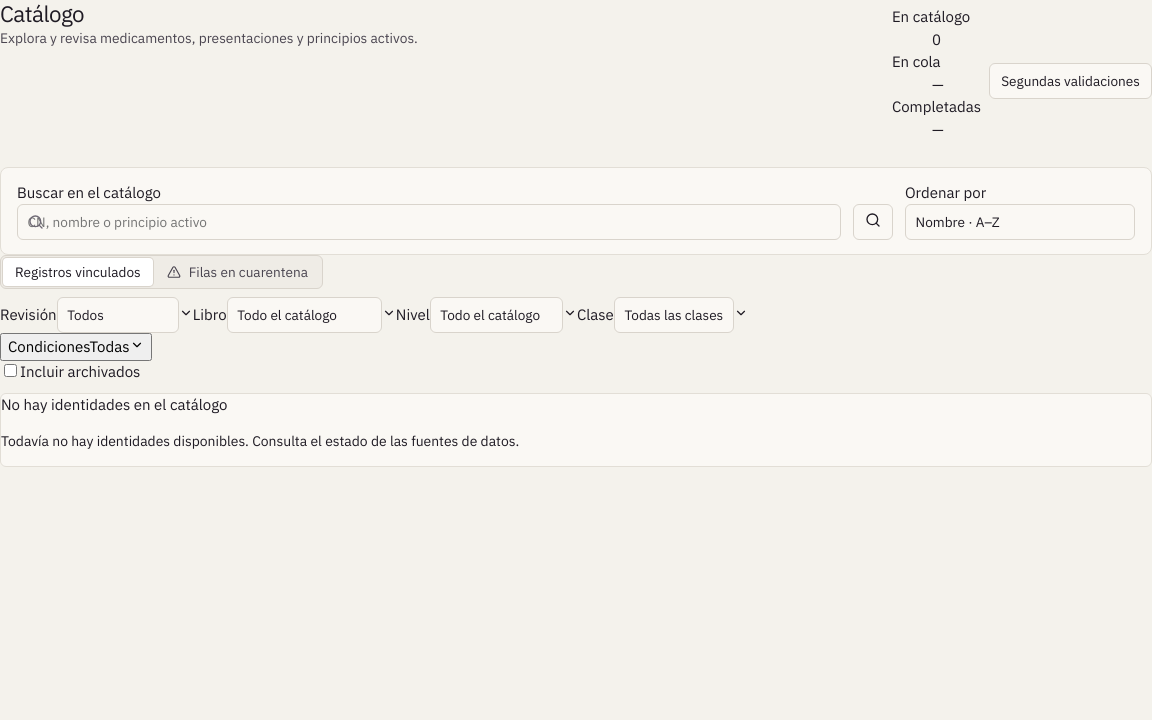
abre segundas validaciones sobre el catálogo sin subpáginas
Expected: the text "No hay identidades en el catálogo" is shown, x1=1 y1=395 x2=227 y2=414
Click the button "Segundas validaciones": (1070, 81) x1=989 y1=63 x2=1151 y2=99
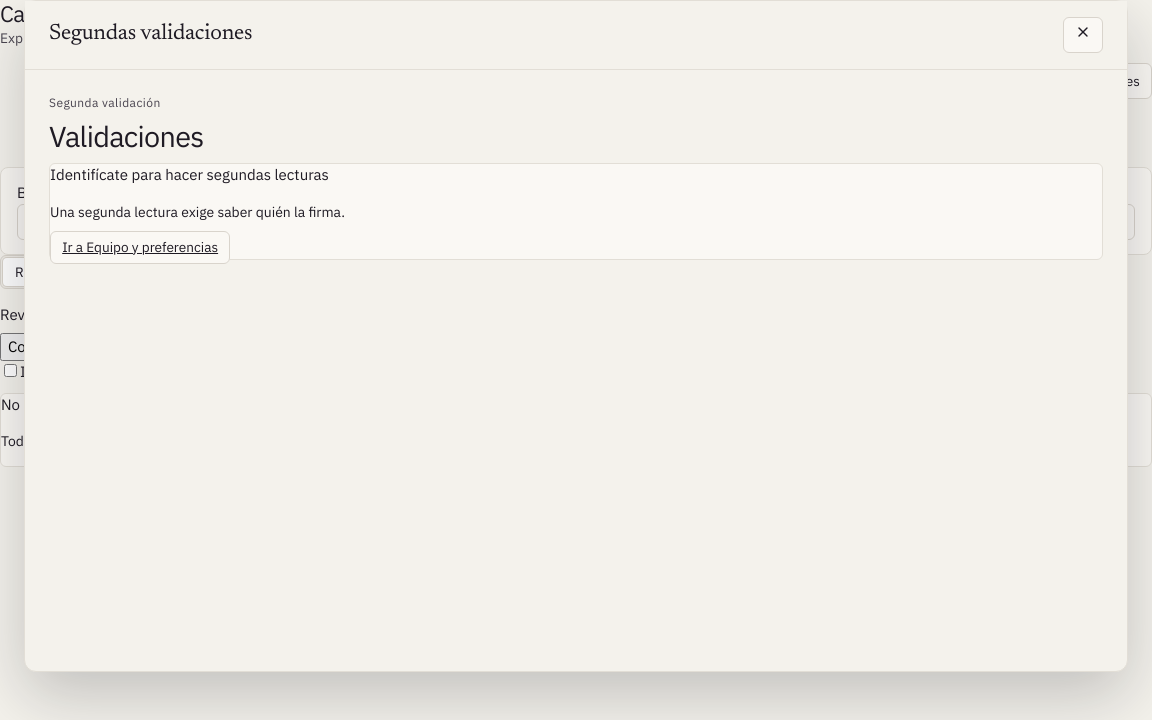
Result: the dialog "Segundas validaciones" is shown
